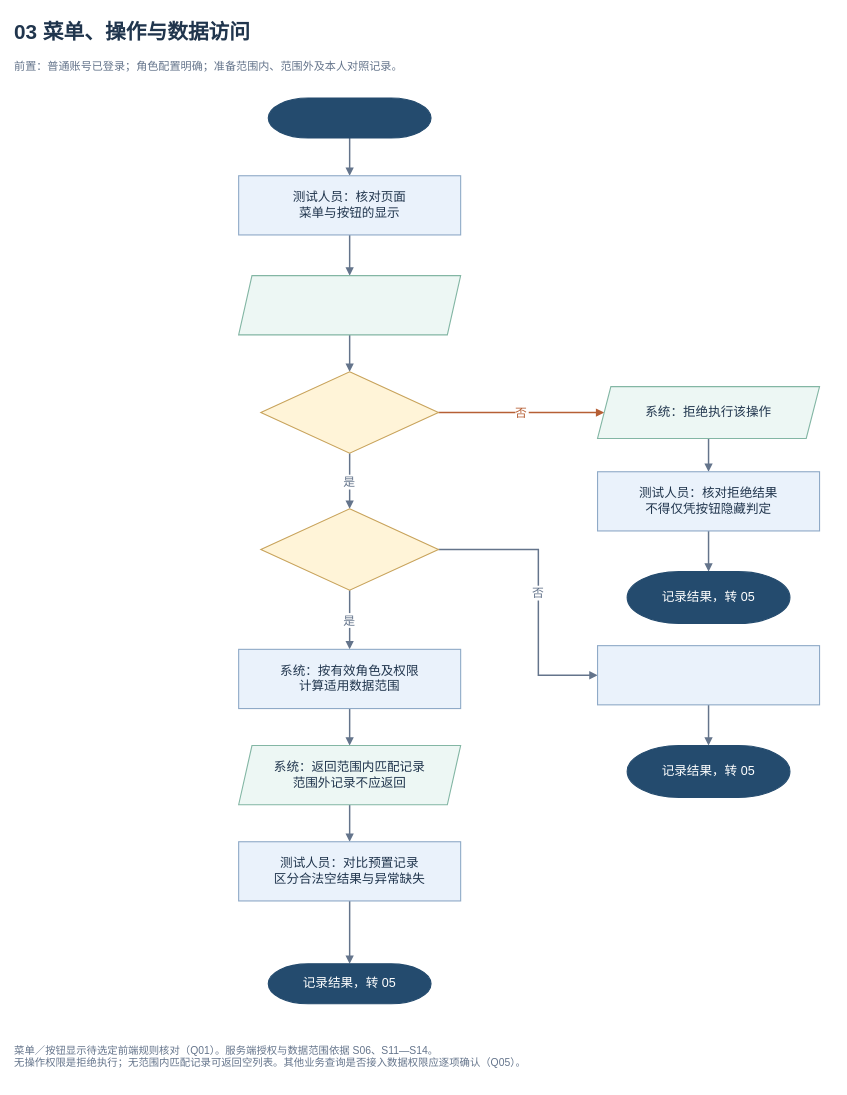
Image size: 847x1095. Some labels were removed from this diagram. Each missing label, with the box of its shape:
开始: (267, 97, 431, 138)
新用户：发起目标业务请求 隐藏入口也单独核对授权: (238, 275, 461, 335)
目标是接入数据权限 的用户列表查询？: (260, 508, 439, 590)
系统：按该操作规则处理 核对业务结果: (597, 645, 820, 705)
系统：有目标 操作权限？: (260, 371, 439, 453)
